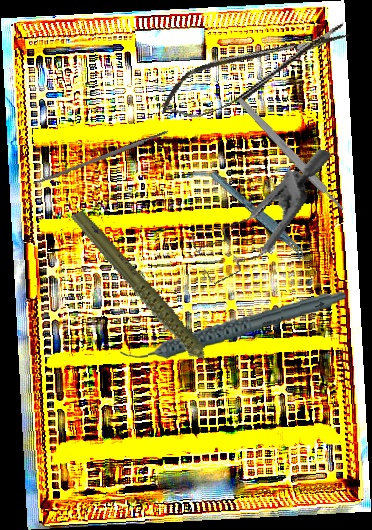Handpiece: (68, 188, 224, 408), (117, 289, 350, 361)
Micro Scissor: (151, 12, 359, 129)
Scalpel Handle: (235, 95, 347, 214), (31, 129, 171, 187)
Speculum: (181, 123, 332, 304)
Tissue Forceps: (209, 161, 309, 271)
